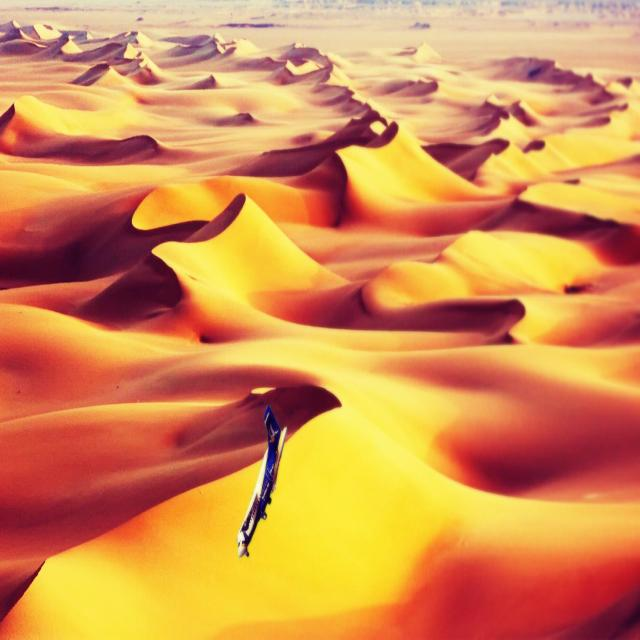airplane: (236, 402, 288, 558)
